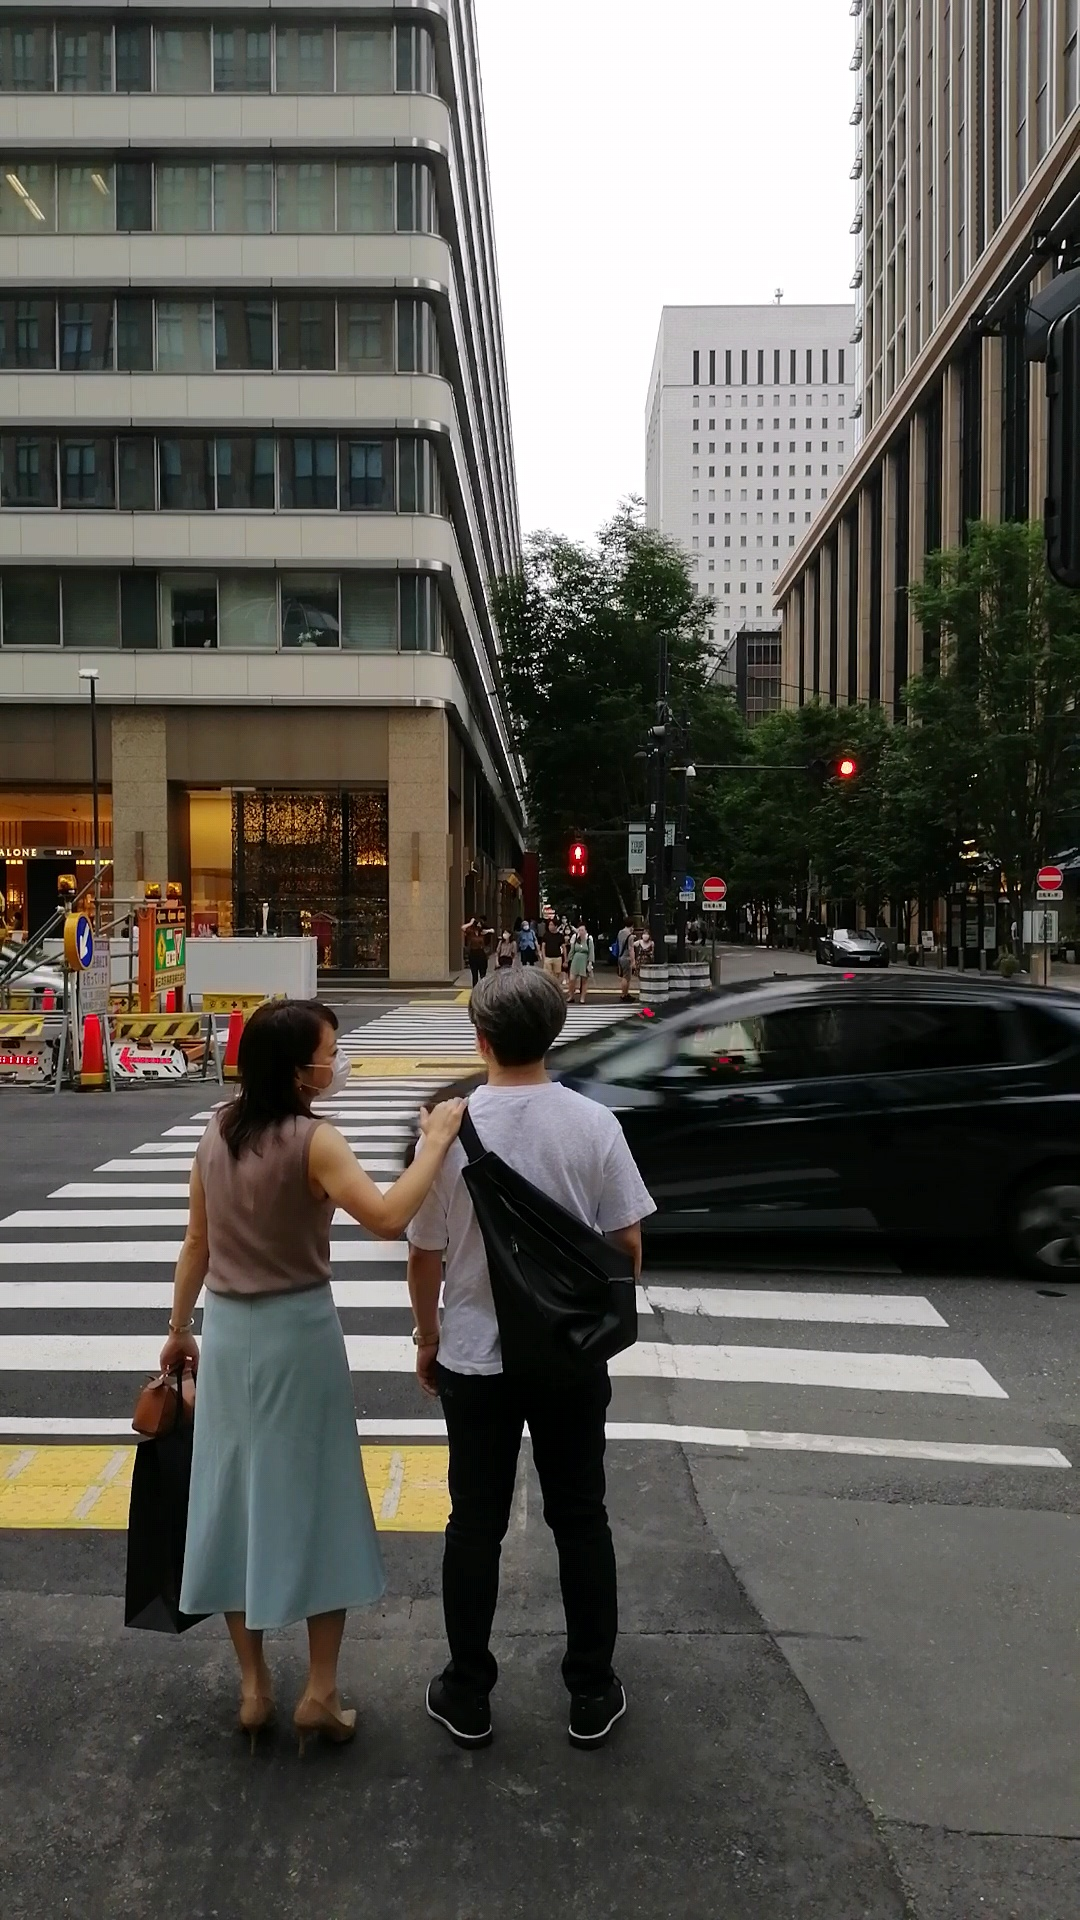red: (567, 841, 588, 880)
